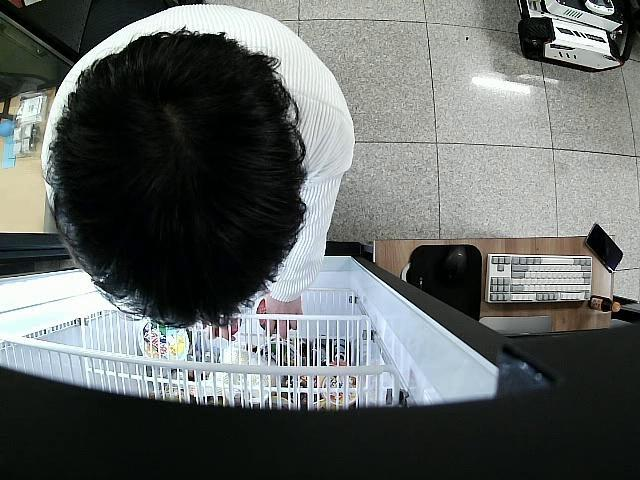02_shinRamen_S: (257, 300, 292, 332)
